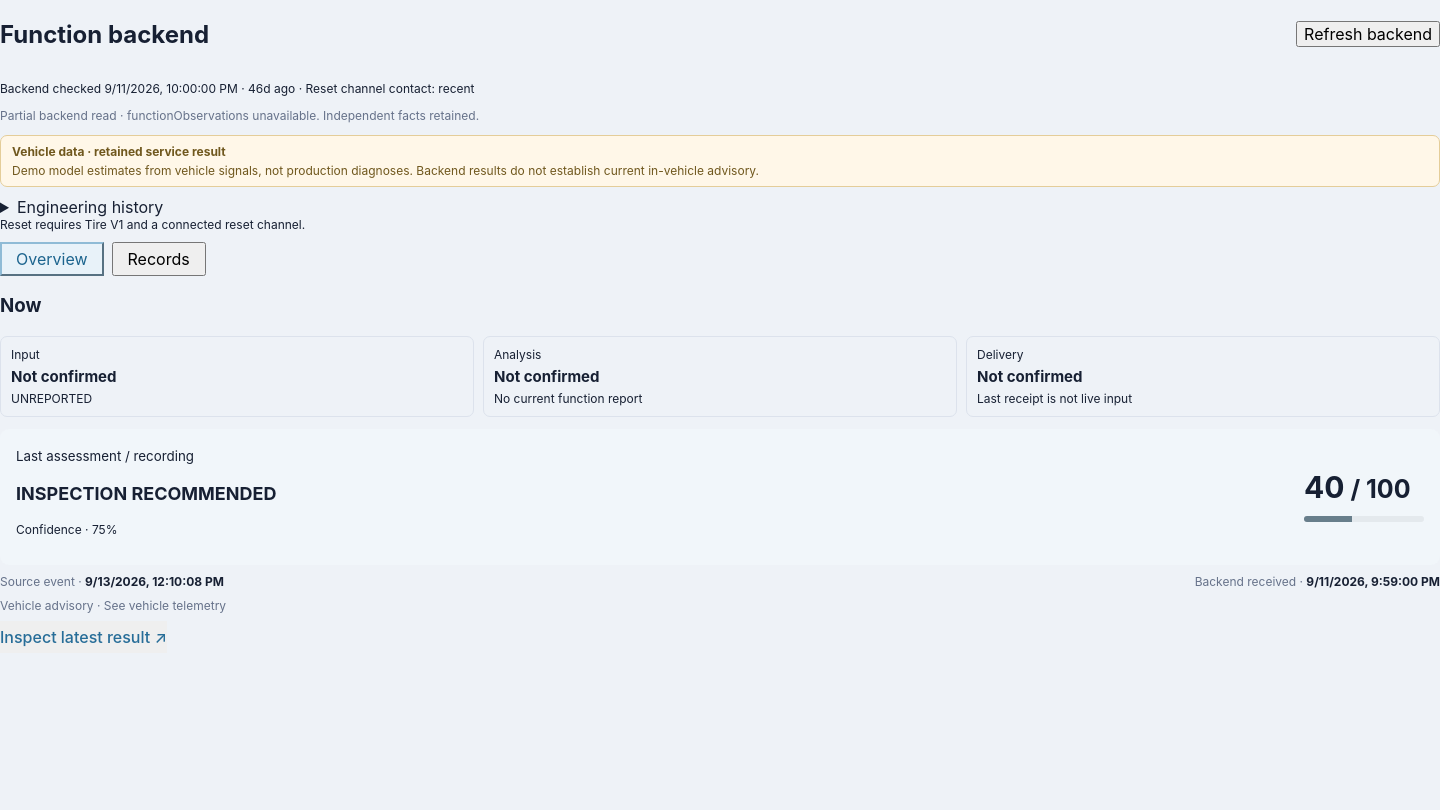
Test case: Tire result uses its actual confidence, source time and content provenance fields
Expected: the text "Confidence · 75%" is shown, [16,522,118,537]
Click the button "Inspect latest result ↗": (83, 637) [0,621,167,653]
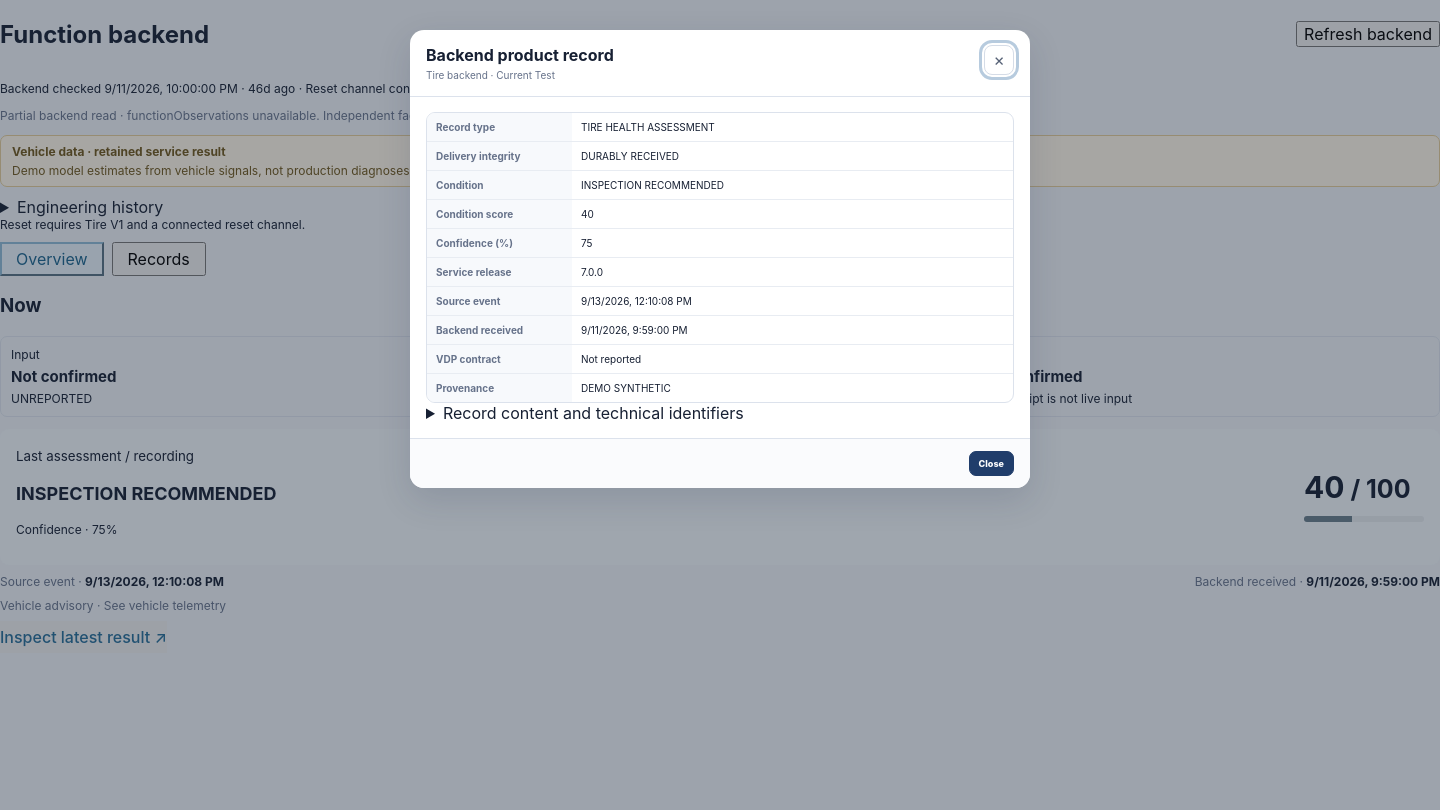
Expected: the dialog shows "DEMO SYNTHETIC", [581,382,671,394]
